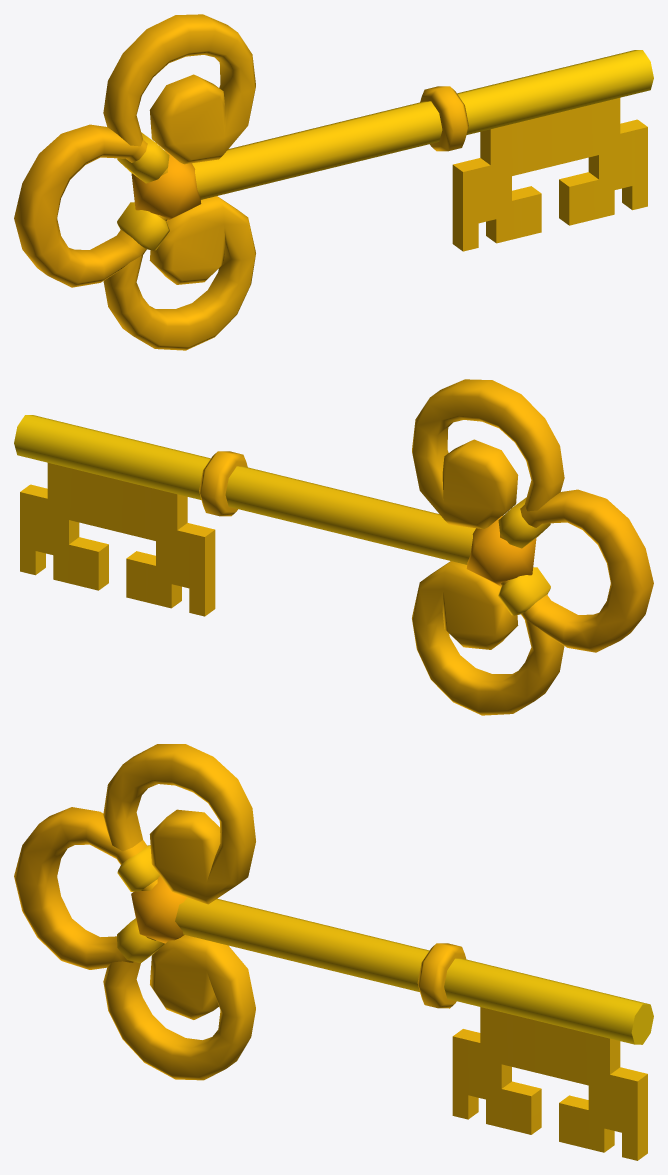
Rendered from key_002.fbx.
The picture shows the model from 3 angles, top to bottom: view 1: azimuth 30°, elevation 25°; view 2: azimuth 150°, elevation 25°; view 3: azimuth 330°, elevation 25°; orthographic projection.
Parts seen in each view (by area): view 1: key_002; view 2: key_002; view 3: key_002.
Part boxes in pixels (x1,y1,x2,y2): key_002: (14,14,653,350); key_002: (14,379,653,715); key_002: (14,744,653,1160).
Bounding box in the file's own units: 169 × 16.1 × 85.08.
